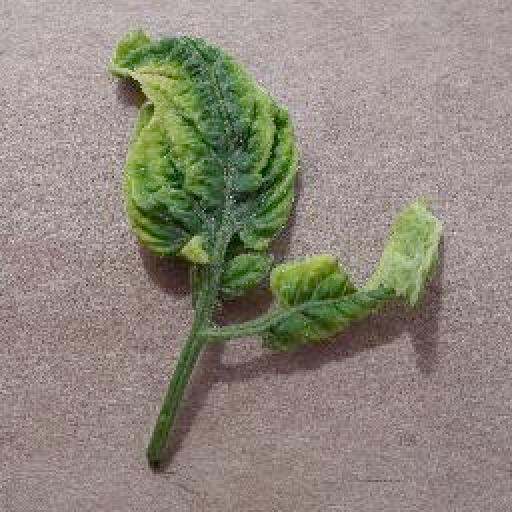disease_tomato: (111, 28, 301, 298), (262, 203, 444, 353)
